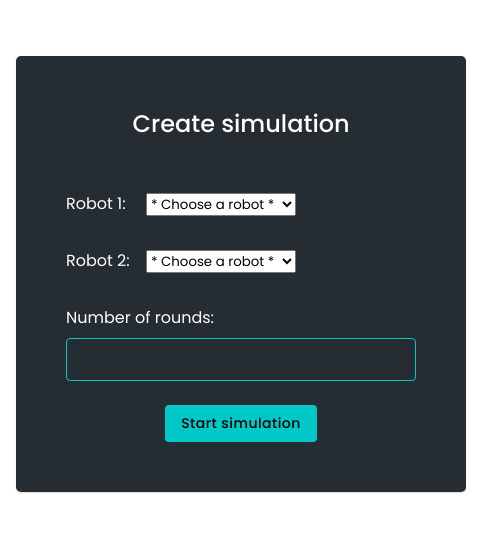
Test: Sim Creation test › 7. New sim with excessive number of rounds
The width and height of the screenshot is (483, 551).
Select "Soyunrobot" in the dropdown with test id "nameRobot1": [221, 204] box [146,193,296,216]
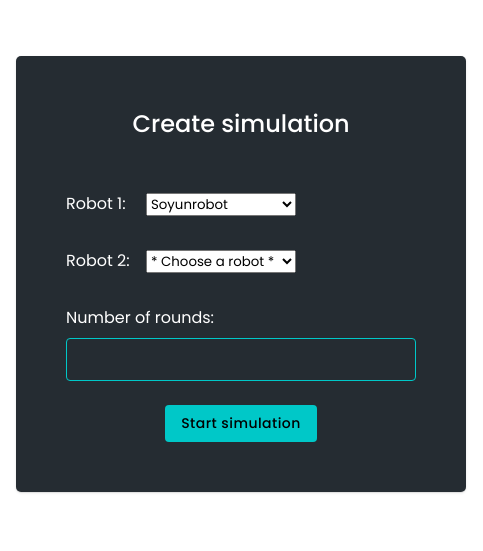
Select "Soyotrorobot" in the dropdown with test id "nameRobot2": [221, 262] box [146,250,296,273]
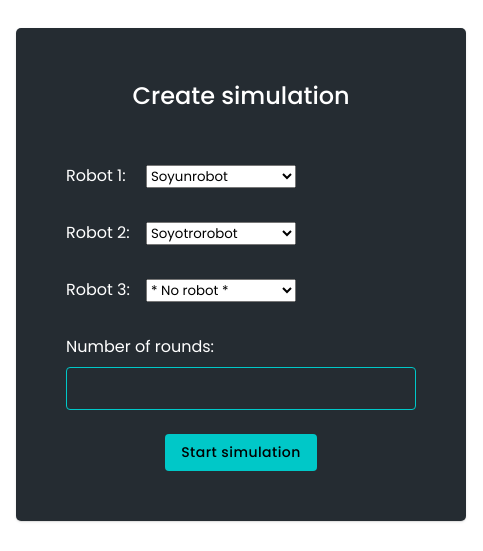
In the field with test id "nRounds": [241, 388] box [66,366,416,410], type "5000000000"
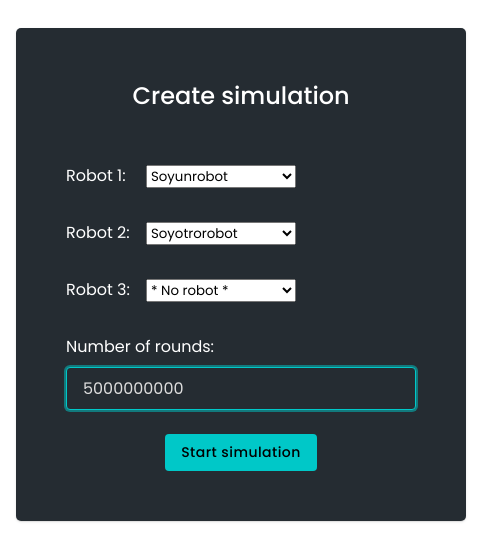
Click the button with test id "submit": [241, 452] box [165,434,317,470]
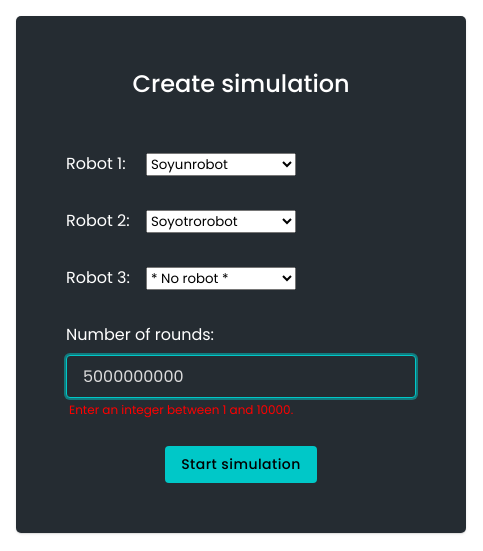
expect the text with test id "valNRounds" reads "Enter an integer between 1 and 10000.": met, box [69,400,293,418]
